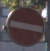No entry: (5, 5, 45, 46)
